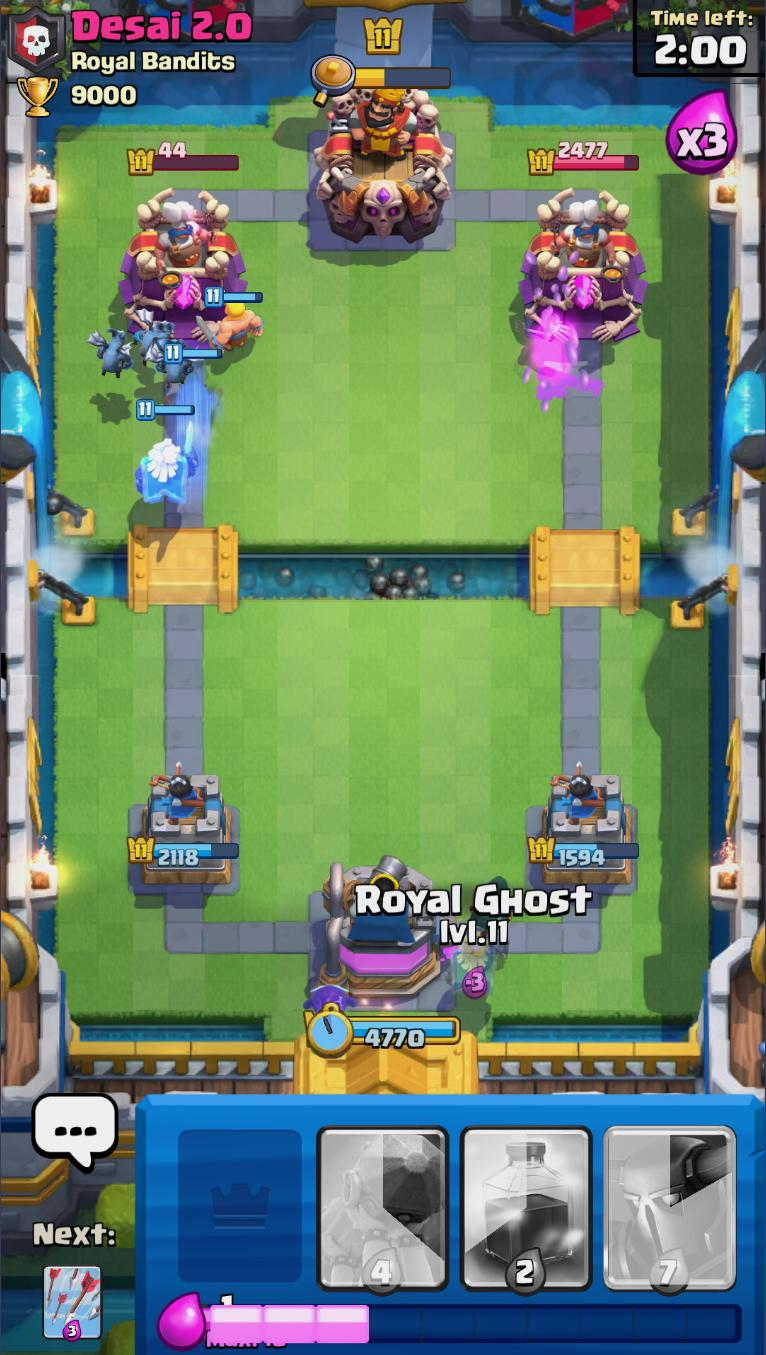ArrowNext: (41, 1261, 104, 1343)
BattleRamDeck: (310, 1100, 456, 1296)
Chef: (147, 199, 220, 270), (549, 201, 620, 269)
Elixir: (202, 1296, 742, 1349)
Empty: (167, 1097, 313, 1290)
EnemyTower: (119, 189, 249, 344), (520, 189, 649, 343)
KingTower: (314, 84, 456, 244)
MyBandit: (163, 343, 226, 430), (469, 874, 521, 936)
MyBarbarian: (197, 290, 267, 356)
MyElectroSpirit: (310, 979, 356, 1014)
MyKingHP: (301, 1004, 463, 1053)
MyKingTower: (311, 853, 461, 1009)
MyMinion: (131, 304, 180, 367), (87, 326, 139, 380), (147, 334, 196, 386)
MyPrincessTower: (127, 774, 240, 889), (529, 774, 641, 890)
MyPrincessTowerHP: (126, 833, 241, 869), (529, 833, 641, 867)
MyRoyaleGhost: (130, 400, 197, 506)
PekkaDeck: (599, 1100, 744, 1297)
RageDeck: (453, 1100, 599, 1300)
TowerPrincessHP: (529, 141, 641, 177), (129, 141, 241, 174)
